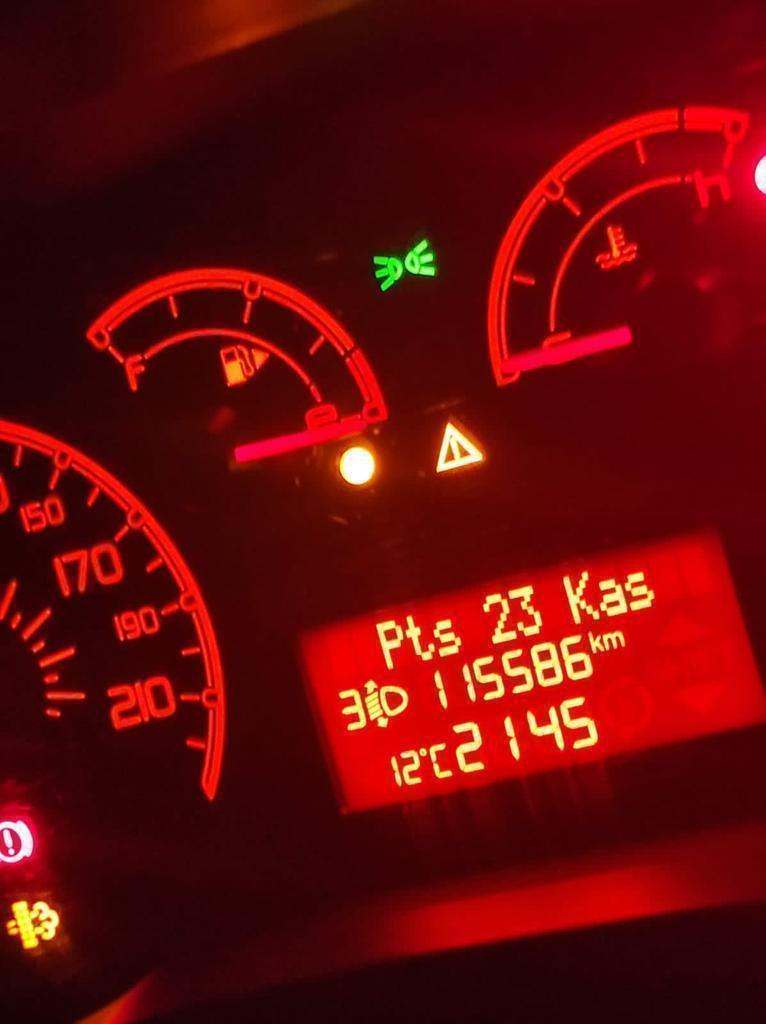1: (502, 714, 521, 762), (461, 662, 477, 703), (432, 670, 448, 710), (390, 754, 402, 787)
2: (482, 592, 517, 645), (452, 720, 486, 773), (399, 749, 423, 785)
3: (507, 583, 543, 636), (337, 688, 368, 731)
4: (525, 705, 566, 751)
5: (559, 696, 600, 749), (472, 654, 506, 700), (500, 648, 534, 693)
6: (559, 633, 594, 681)
8: (530, 641, 564, 687)
X: (562, 570, 600, 624), (375, 619, 404, 670), (405, 614, 435, 662), (623, 571, 655, 611), (598, 578, 628, 617), (433, 618, 462, 658), (429, 742, 454, 779), (601, 631, 625, 650), (587, 630, 604, 654)
odometer: (290, 526, 764, 820)
